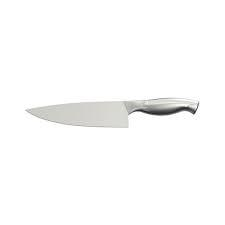Knife: (24, 97, 199, 128)
